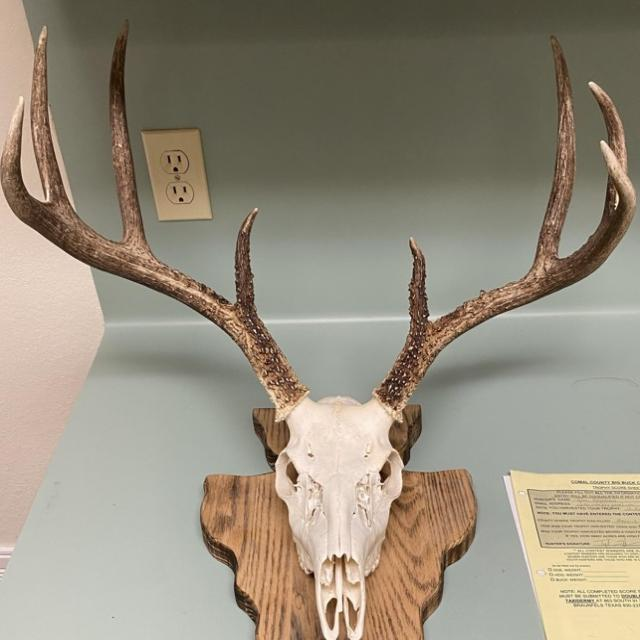L-F: (373, 140, 637, 421)
L-G1: (407, 236, 432, 338)
L-G2: (528, 35, 577, 273)
R-F: (0, 96, 309, 422)
R-G1: (233, 207, 259, 318)
R-G2: (109, 19, 154, 258)
R-G3: (30, 25, 77, 216)
